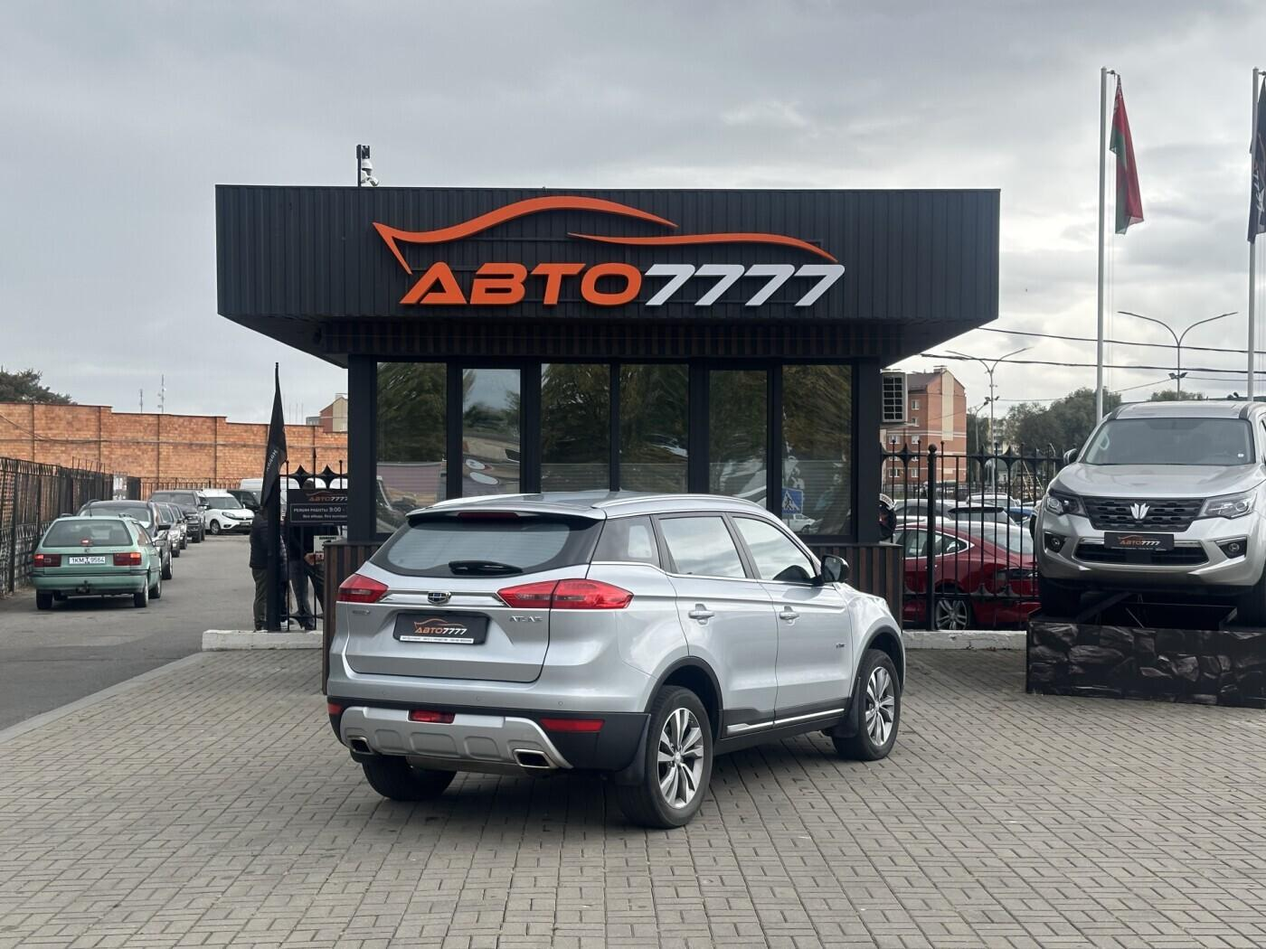Atlas_2016-2023: (318, 489, 913, 832)
